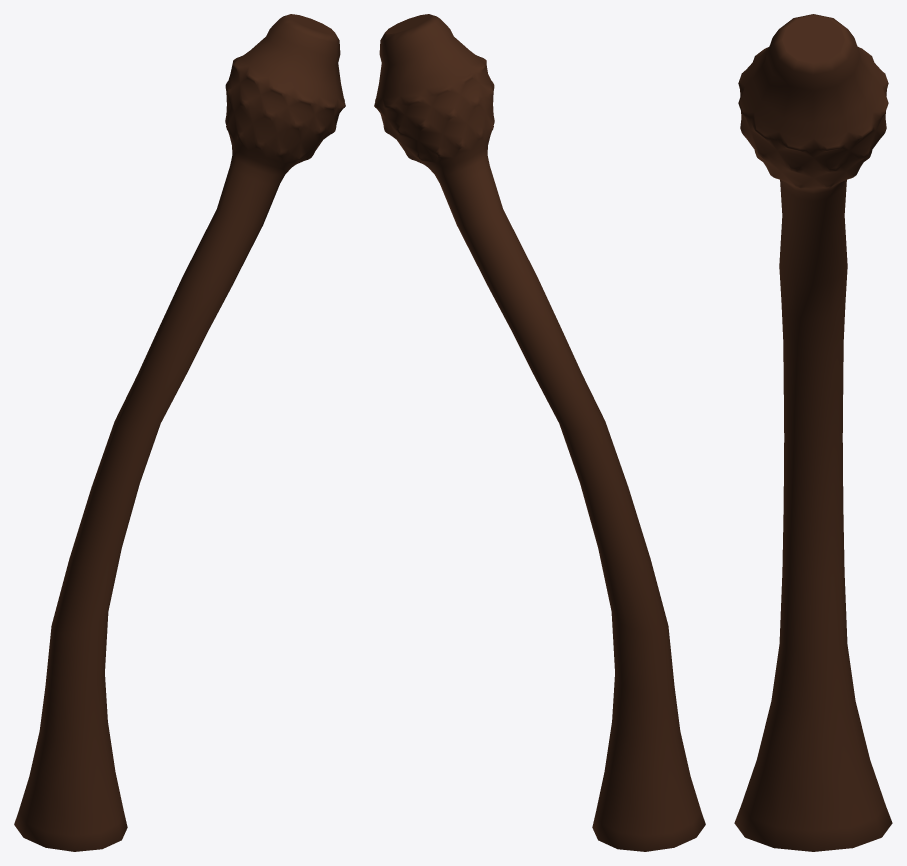
Rendered from PalmBent3.fbx.
3 views of the same model, side by side, from view 1: azimuth 30°, elevation 25°; view 2: azimuth 150°, elevation 25°; view 3: azimuth 270°, elevation 25° (orthographic). The views are drawn at different scales.
Parts seen in each view (by area): view 1: pCylinder14; view 2: pCylinder14; view 3: pCylinder14.
Part boxes in pixels (x1,y1,x2,y2): pCylinder14: (14, 14, 345, 851); pCylinder14: (374, 14, 705, 851); pCylinder14: (734, 14, 892, 851).
Size of the model in its own units: 1.41 by 3.24 by 0.4914.
